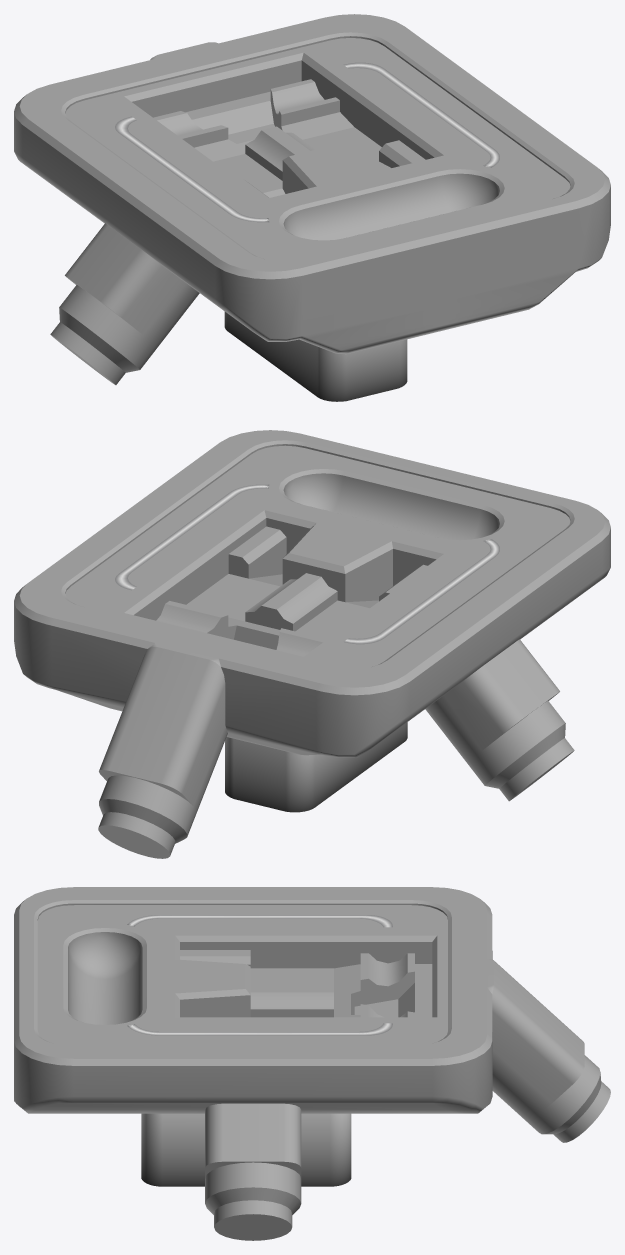
The model's file is DroneDock.fbx.
The picture shows the model from 3 angles, top to bottom: view 1: azimuth 30°, elevation 25°; view 2: azimuth 150°, elevation 25°; view 3: azimuth 270°, elevation 25°; orthographic projection. The views are drawn at different scales.
Visible parts, largest first — view 1: DroneDock, DroneDockStabiliser, DroneDockDownload; view 2: DroneDock, DroneDockStabiliser, DroneDockDownload; view 3: DroneDock, DroneDockStabiliser, DroneDockDownload.
Boxes of the visible parts, x1=… form: DroneDock: x1=14, y1=14, x2=610, y2=385; DroneDockStabiliser: x1=224, y1=311, x2=407, y2=401; DroneDockDownload: x1=115, y1=62, x2=499, y2=222; DroneDock: x1=14, y1=430, x2=610, y2=858; DroneDockStabiliser: x1=225, y1=722, x2=407, y2=812; DroneDockDownload: x1=115, y1=484, x2=499, y2=644; DroneDock: x1=14, y1=887, x2=610, y2=1240; DroneDockStabiliser: x1=141, y1=1113, x2=351, y2=1186; DroneDockDownload: x1=127, y1=915, x2=392, y2=1035.
Size of the model in its own units: 73.69 by 28.72 by 80.14.
Materials: 3 (1 with a texture image).
